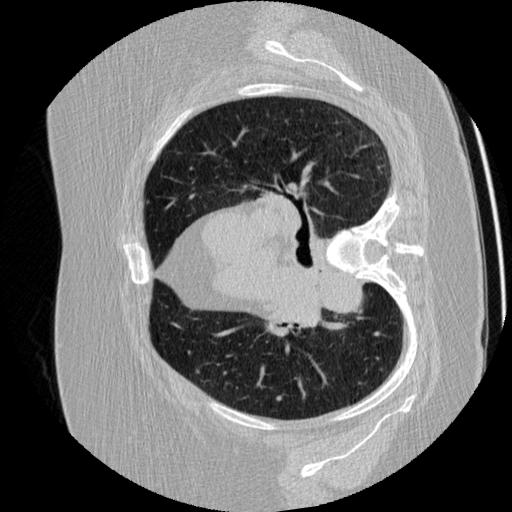nodule: (273, 392, 285, 404)
